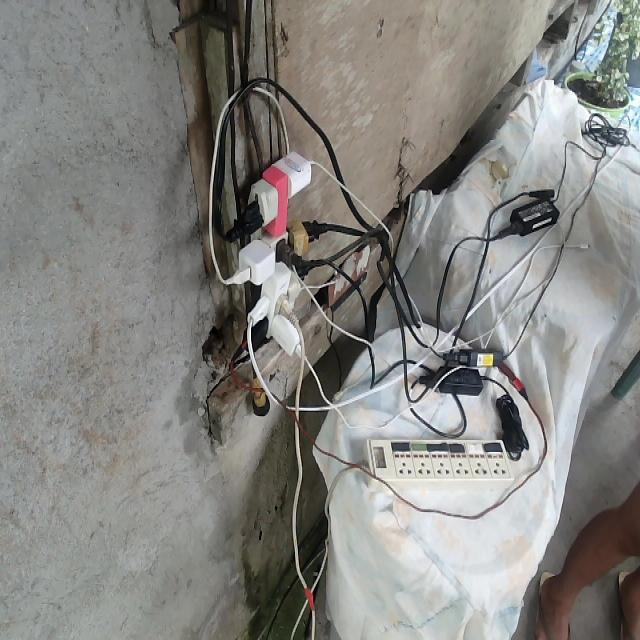-: (221, 147, 326, 356)
